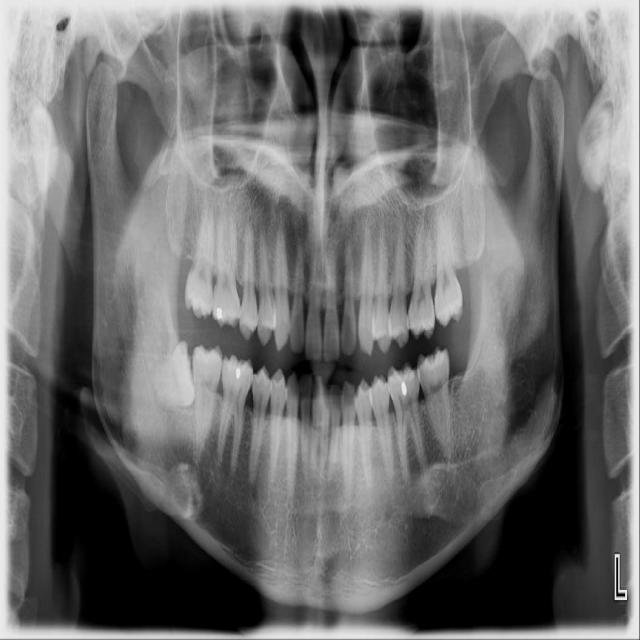Filling: (399, 371, 411, 396), (232, 365, 243, 380), (213, 306, 223, 321)
impacted tooth: (143, 342, 197, 406)
